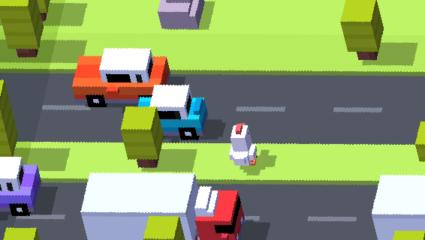hen: (229, 123, 258, 167)
obstacle: (80, 170, 245, 240), (72, 48, 170, 107), (137, 85, 209, 141), (373, 174, 425, 239), (341, 1, 384, 61), (0, 0, 44, 58), (121, 106, 161, 168), (0, 158, 42, 217), (159, 0, 206, 30), (0, 80, 17, 158), (143, 215, 186, 240), (4, 228, 39, 240), (415, 121, 425, 162), (392, 230, 425, 240), (35, 0, 49, 19)
